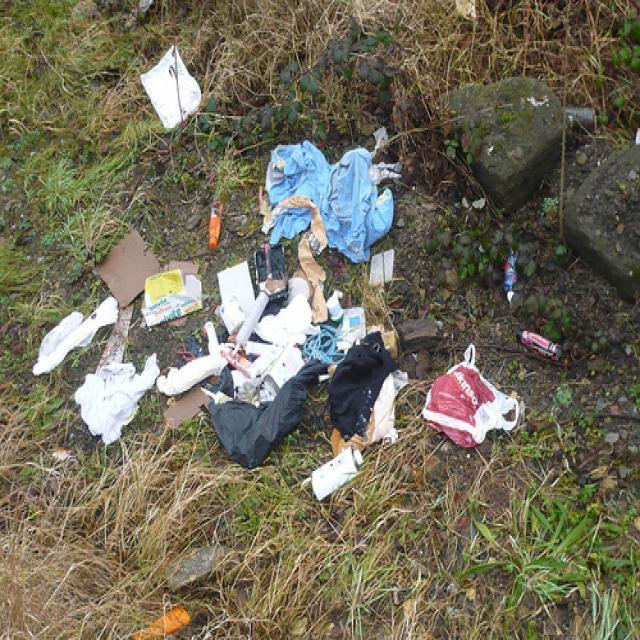garbage: (12, 254, 408, 473), (249, 121, 400, 263), (408, 338, 524, 454), (132, 38, 209, 134), (308, 438, 374, 508), (121, 602, 214, 638), (556, 80, 610, 140), (512, 322, 572, 366), (202, 193, 228, 255), (500, 248, 524, 308)
